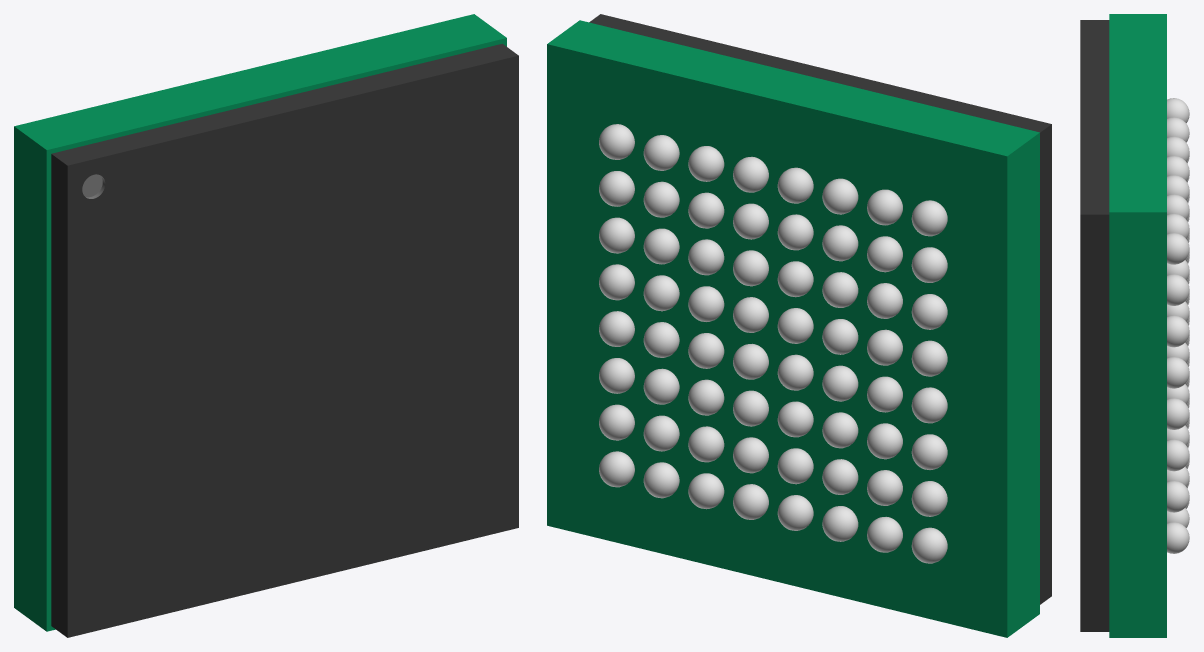
The model's file is TFBGA64.glb.
3 views of the same model, side by side, from view 1: azimuth 30°, elevation 25°; view 2: azimuth 150°, elevation 25°; view 3: azimuth 270°, elevation 25° (orthographic). The views are drawn at different scales.
Visible parts, largest first — view 1: BGA64C50P8X8_497X500X120N; view 2: BGA64C50P8X8_497X500X120N; view 3: BGA64C50P8X8_497X500X120N.
Boxes of the visible parts, box(x1,y1,x2,y2) form: BGA64C50P8X8_497X500X120N: box(14, 14, 518, 637); BGA64C50P8X8_497X500X120N: box(547, 14, 1051, 637); BGA64C50P8X8_497X500X120N: box(1080, 14, 1189, 637).
Bounding box in the file's own units: 0.00515 × 0.00515 × 0.0012.
